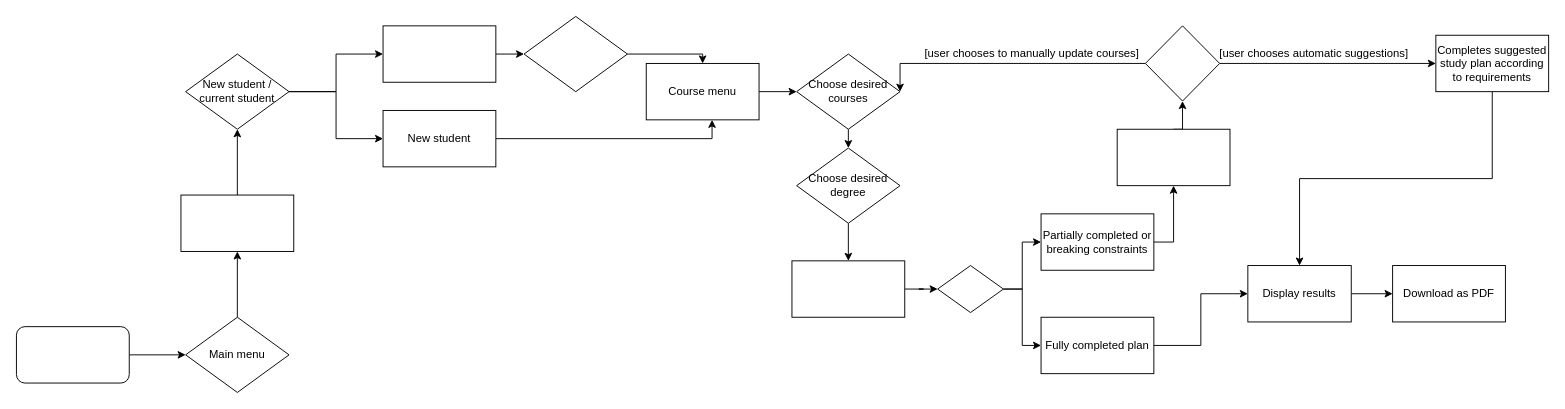
The diagram is 1565 pixels wide and 409 high, and some of its shapes have lost their labels. The box of each missing label's shape, as (x1, y1, x2, y2) in pixels:
Client: (16, 326, 129, 383)
Courses already taken: (523, 16, 627, 92)
Current student: (382, 25, 496, 82)
Display errors: (1116, 128, 1230, 186)
Display result: (791, 260, 905, 317)
Student: (180, 194, 294, 251)
